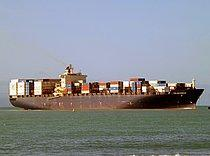Ship: (7, 61, 206, 115)
